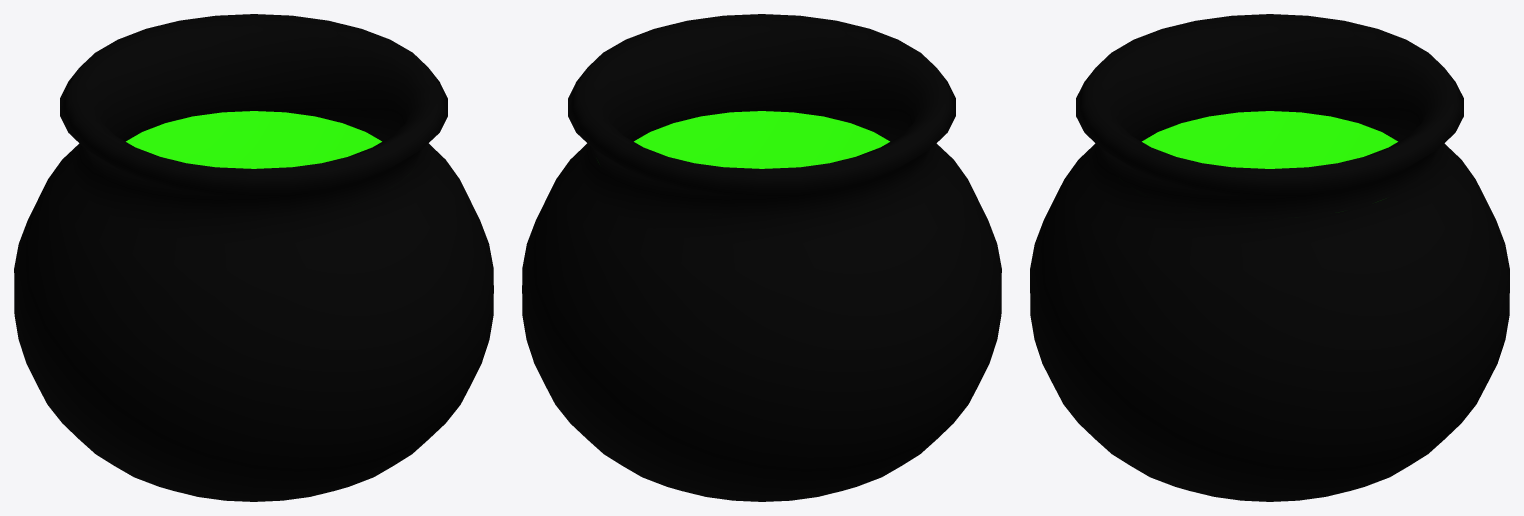
Rendered from Cauldron.fbx.
3 renders of one model, left to right at view 1: azimuth 30°, elevation 25°; view 2: azimuth 150°, elevation 25°; view 3: azimuth 270°, elevation 25°, orthographic.
Visible parts, largest first — view 1: Cauldron; view 2: Cauldron; view 3: Cauldron.
Part boxes in pixels (x1,y1,x2,y2): Cauldron: (14,14,493,501); Cauldron: (522,14,1001,501); Cauldron: (1030,14,1509,501).
Bounding box in the file's own units: 4.06 × 3.41 × 4.03.
